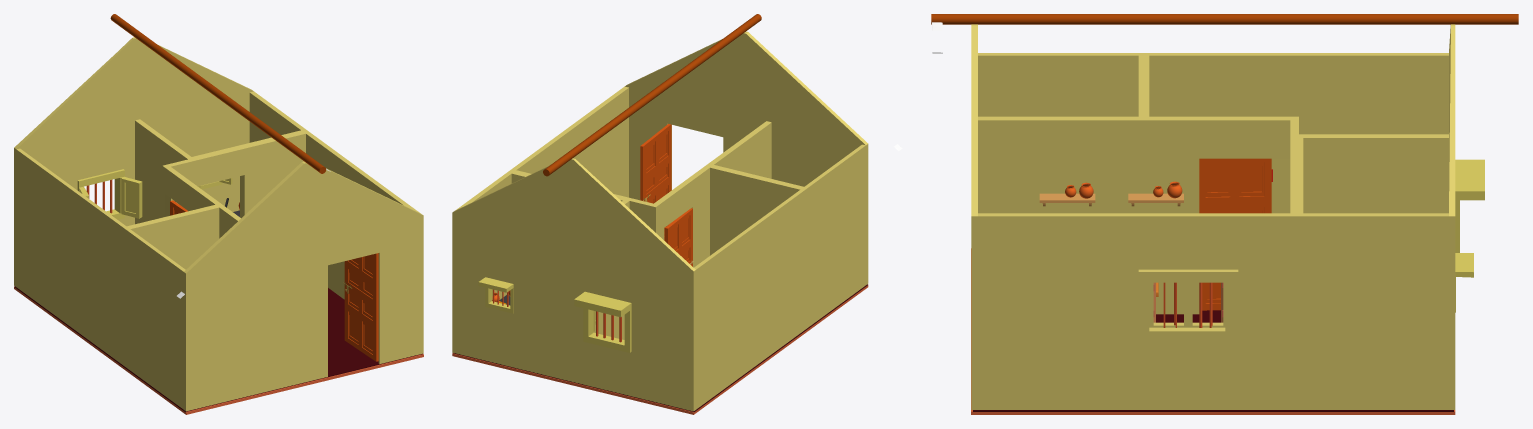
Rendered from HouseModel.glb.
3 renders of one model, left to right at view 1: azimuth 30°, elevation 25°; view 2: azimuth 150°, elevation 25°; view 3: azimuth 270°, elevation 25°, orthographic. The views are drawn at different scales.
Visible parts, largest first — view 1: Cube.001, Cube.076, tiles, roof, Cube.013, Cube; view 2: Cube.001, Cube.013, roof, Cube.076, Cube, Cube.039, tiles, Cube.019; view 3: Cube.001, roof, Cube.039, Cube.013, Cube, tiles, Slab, Cube.019, pots.
Part boxes in pixels (bbox=[...]): Cube.001: bbox=[14, 37, 423, 411]; Cube.076: bbox=[343, 253, 378, 361]; tiles: bbox=[14, 286, 422, 411]; roof: bbox=[110, 14, 326, 173]; Cube.013: bbox=[77, 169, 232, 219]; Cube: bbox=[14, 286, 423, 414]; Cube.001: bbox=[452, 31, 868, 411]; Cube.013: bbox=[478, 277, 631, 352]; roof: bbox=[543, 14, 761, 176]; Cube.076: bbox=[640, 124, 671, 240]; Cube: bbox=[452, 284, 868, 414]; Cube.039: bbox=[664, 208, 693, 266]; tiles: bbox=[453, 284, 867, 411]; Cube.019: bbox=[493, 289, 621, 342]; Cube.001: bbox=[971, 24, 1455, 409]; roof: bbox=[931, 14, 1518, 24]; Cube.039: bbox=[1199, 158, 1271, 310]; Cube.013: bbox=[1455, 159, 1484, 312]; Cube: bbox=[971, 248, 1455, 414]; tiles: bbox=[973, 310, 1453, 411]; Slab: bbox=[1039, 193, 1183, 206]; Cube.019: bbox=[1163, 282, 1212, 327]; pots: bbox=[1065, 181, 1182, 198].
Size of the model in its own units: 54.92 by 45.93 by 76.1.
